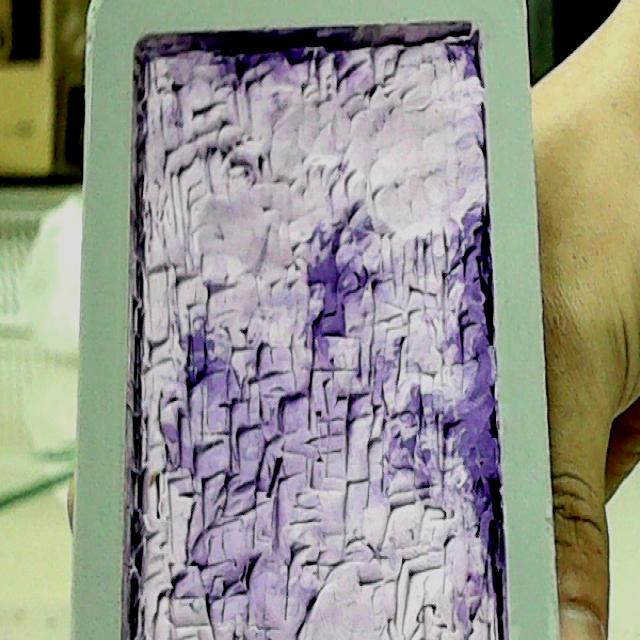block: (65, 0, 562, 640)
